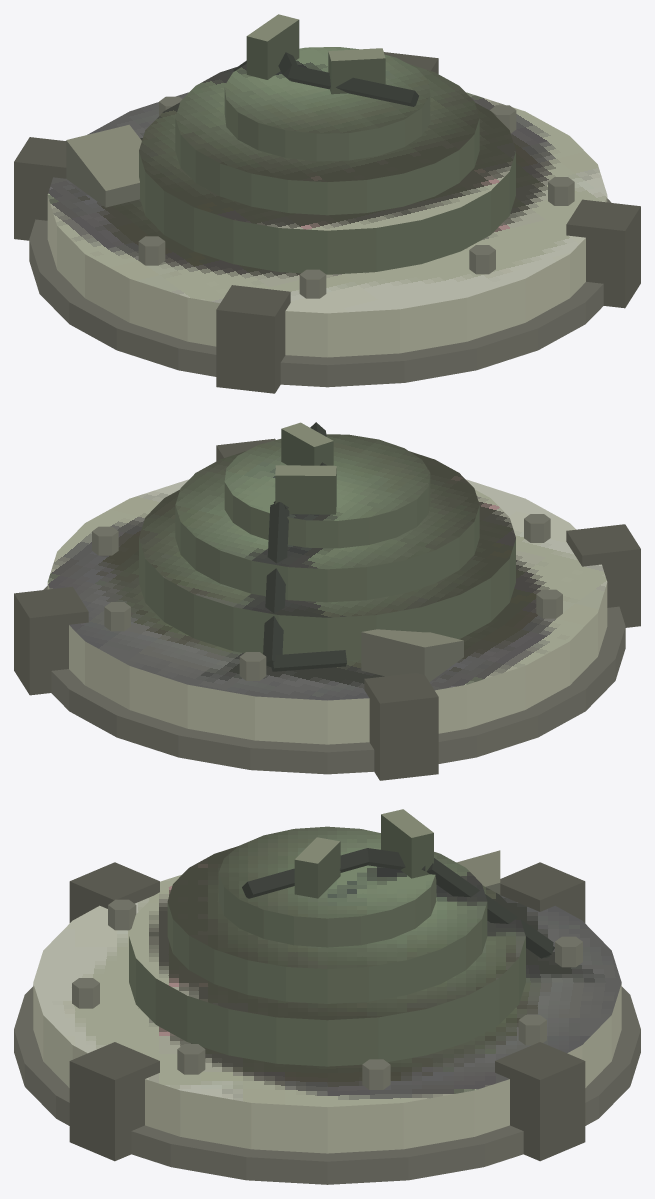
File: Building_AncientMechDropBeacon.glb
3 renders of one model, top to bottom at view 1: azimuth 30°, elevation 25°; view 2: azimuth 150°, elevation 25°; view 3: azimuth 270°, elevation 25°, orthographic. The views are drawn at different scales.
Visible parts, largest first — view 1: AncientMechDropBeacon; view 2: AncientMechDropBeacon; view 3: AncientMechDropBeacon.
Part boxes in pixels (<box>): AncientMechDropBeacon: <box>14,14,640,393</box>; AncientMechDropBeacon: <box>14,422,640,780</box>; AncientMechDropBeacon: <box>14,809,640,1184</box>.
Size of the model in its own units: 0.98 by 0.38 by 0.98.
Materials: 1 (1 with a texture image).
